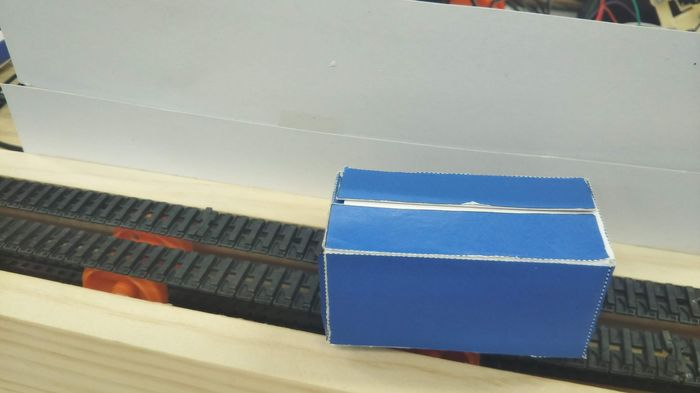box3: (312, 160, 614, 361)
